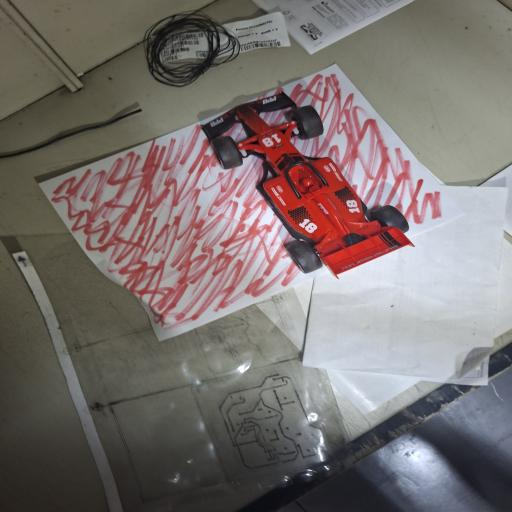carro: (203, 93, 412, 275)
